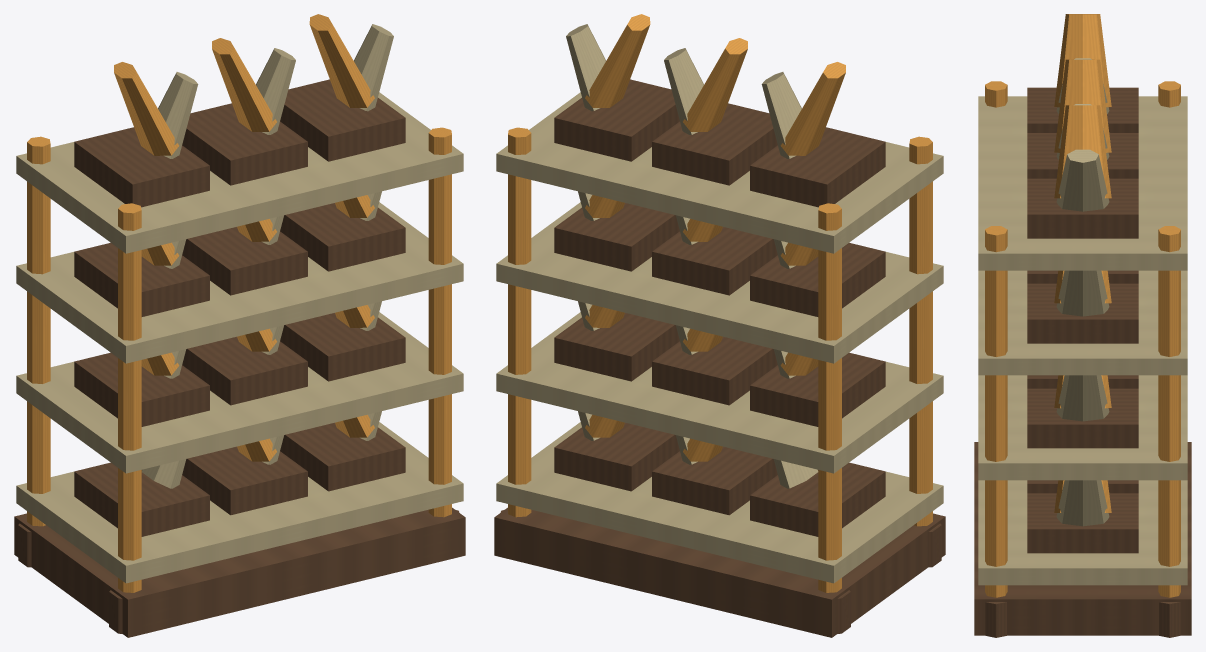
File: atlas100-s014-a02.lod1.glb
3 views of the same model, side by side, from view 1: azimuth 30°, elevation 25°; view 2: azimuth 150°, elevation 25°; view 3: azimuth 270°, elevation 25° (orthographic). The views are drawn at different scales.
Visible parts, largest first — view 1: atlas100-s014-a02:part-000, atlas100-s014-a02:part-041, atlas100-s014-a02:part-031, atlas100-s014-a02:part-021, atlas100-s014-a02:part-011, atlas100-s014-a02:part-005, atlas100-s014-a02:part-009, atlas100-s014-a02:part-042, atlas100-s014-a02:part-003, atlas100-s014-a02:part-048, atlas100-s014-a02:part-045, atlas100-s014-a02:part-018 (+23 smaller); view 2: atlas100-s014-a02:part-000, atlas100-s014-a02:part-041, atlas100-s014-a02:part-031, atlas100-s014-a02:part-021, atlas100-s014-a02:part-011, atlas100-s014-a02:part-003, atlas100-s014-a02:part-007, atlas100-s014-a02:part-042, atlas100-s014-a02:part-005, atlas100-s014-a02:part-048, atlas100-s014-a02:part-045, atlas100-s014-a02:part-018 (+23 smaller); view 3: atlas100-s014-a02:part-041, atlas100-s014-a02:part-000, atlas100-s014-a02:part-011, atlas100-s014-a02:part-021, atlas100-s014-a02:part-031, atlas100-s014-a02:part-007, atlas100-s014-a02:part-009, atlas100-s014-a02:part-018, atlas100-s014-a02:part-028, atlas100-s014-a02:part-038, atlas100-s014-a02:part-048, atlas100-s014-a02:part-045 (+18 smaller).
Part boxes in pixels (x1=…): atlas100-s014-a02:part-000: x1=14, y1=507, x2=465, y2=637; atlas100-s014-a02:part-041: x1=16, y1=92, x2=463, y2=253; atlas100-s014-a02:part-031: x1=16, y1=202, x2=463, y2=363; atlas100-s014-a02:part-021: x1=16, y1=312, x2=463, y2=473; atlas100-s014-a02:part-011: x1=16, y1=422, x2=463, y2=583; atlas100-s014-a02:part-005: x1=118, y1=203, x2=141, y2=592; atlas100-s014-a02:part-009: x1=428, y1=127, x2=451, y2=517; atlas100-s014-a02:part-042: x1=74, y1=127, x2=209, y2=207; atlas100-s014-a02:part-003: x1=27, y1=136, x2=50, y2=526; atlas100-s014-a02:part-048: x1=280, y1=79, x2=405, y2=161; atlas100-s014-a02:part-045: x1=182, y1=103, x2=307, y2=185; atlas100-s014-a02:part-018: x1=280, y1=422, x2=405, y2=491; atlas100-s014-a02:part-000: x1=494, y1=507, x2=945, y2=637; atlas100-s014-a02:part-041: x1=496, y1=92, x2=943, y2=253; atlas100-s014-a02:part-031: x1=496, y1=202, x2=943, y2=363; atlas100-s014-a02:part-021: x1=496, y1=312, x2=943, y2=473; atlas100-s014-a02:part-011: x1=496, y1=422, x2=943, y2=583; atlas100-s014-a02:part-003: x1=818, y1=203, x2=841, y2=592; atlas100-s014-a02:part-007: x1=508, y1=127, x2=531, y2=517; atlas100-s014-a02:part-042: x1=750, y1=127, x2=885, y2=207; atlas100-s014-a02:part-005: x1=909, y1=136, x2=932, y2=526; atlas100-s014-a02:part-048: x1=554, y1=79, x2=679, y2=161; atlas100-s014-a02:part-045: x1=652, y1=103, x2=777, y2=185; atlas100-s014-a02:part-018: x1=554, y1=422, x2=679, y2=491; atlas100-s014-a02:part-041: x1=978, y1=96, x2=1187, y2=270; atlas100-s014-a02:part-000: x1=974, y1=442, x2=1191, y2=635; atlas100-s014-a02:part-011: x1=978, y1=480, x2=1187, y2=585; atlas100-s014-a02:part-021: x1=978, y1=375, x2=1187, y2=480; atlas100-s014-a02:part-031: x1=978, y1=270, x2=1187, y2=375; atlas100-s014-a02:part-007: x1=1158, y1=226, x2=1180, y2=597; atlas100-s014-a02:part-009: x1=985, y1=226, x2=1007, y2=597; atlas100-s014-a02:part-018: x1=1027, y1=493, x2=1138, y2=553; atlas100-s014-a02:part-028: x1=1027, y1=388, x2=1138, y2=448; atlas100-s014-a02:part-038: x1=1027, y1=283, x2=1138, y2=343; atlas100-s014-a02:part-048: x1=1027, y1=178, x2=1138, y2=238; atlas100-s014-a02:part-045: x1=1027, y1=133, x2=1138, y2=178.
Bounding box in the file's own units: 2.46 × 3.51 × 1.4.
3 materials, 3 textured.
